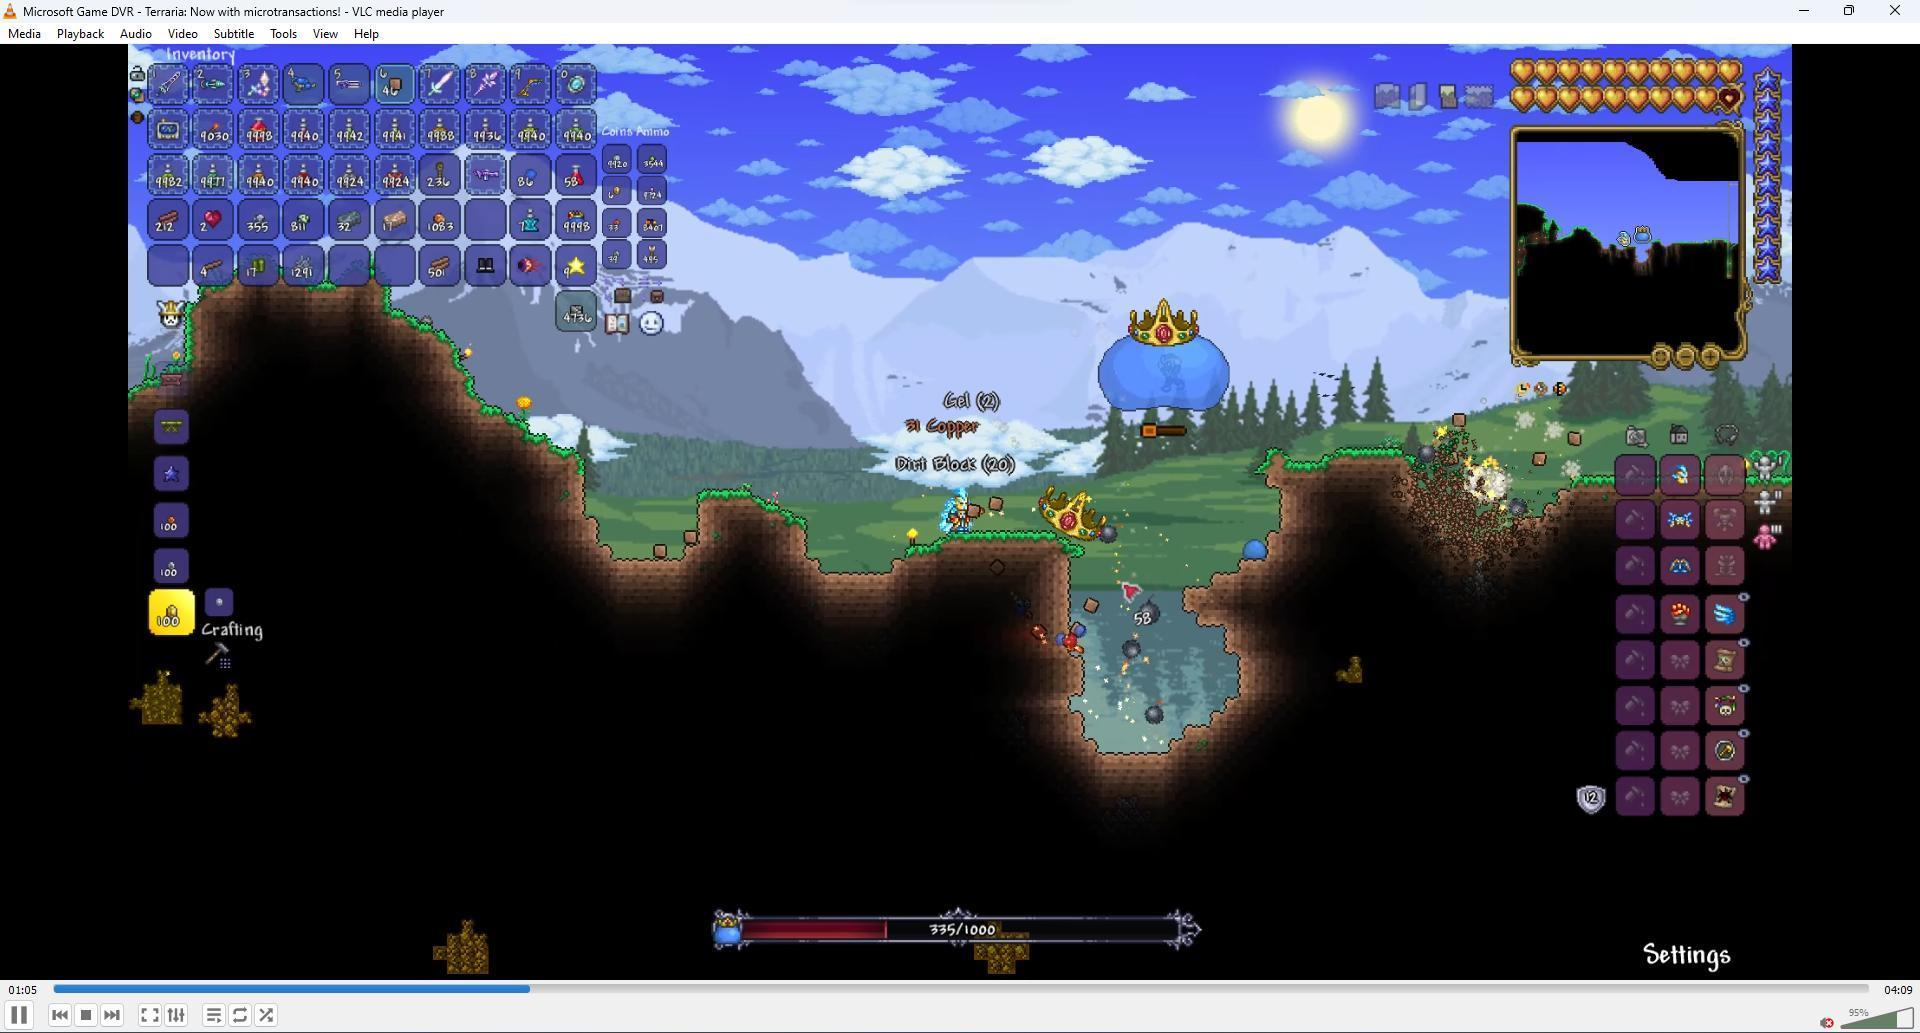slime: (1238, 539, 1269, 561)
